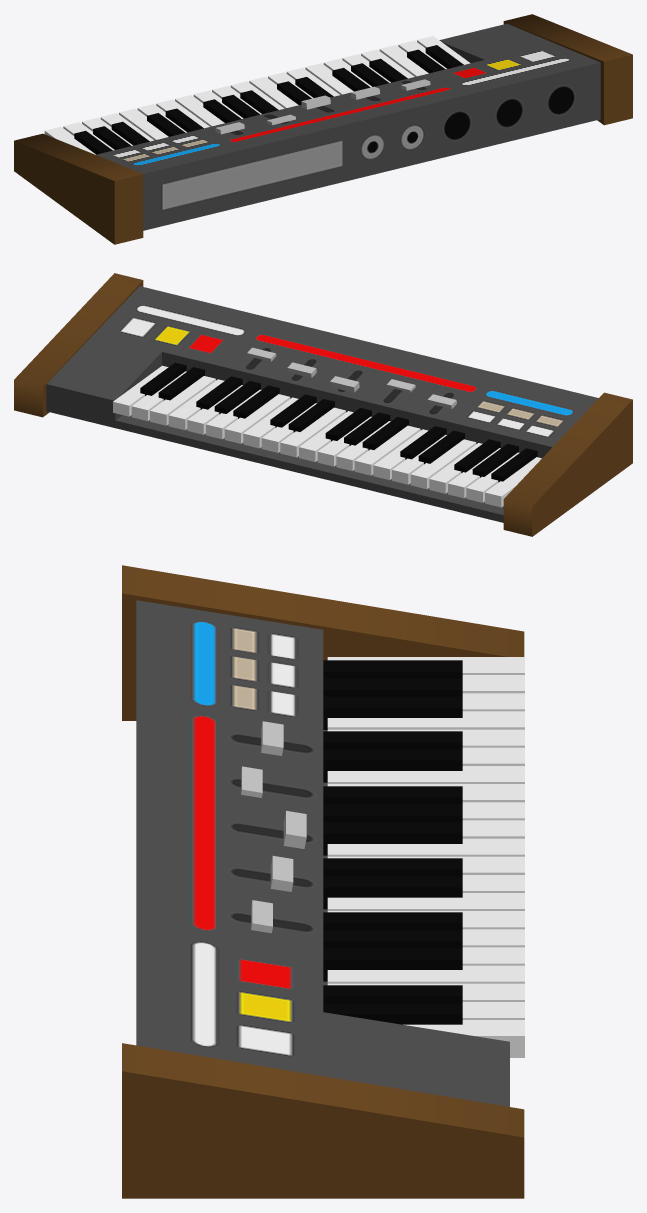
The model's file is juno.fbx.
3 views of the same model, one above another, from view 1: azimuth 30°, elevation 25°; view 2: azimuth 150°, elevation 25°; view 3: azimuth 270°, elevation 25° (orthographic). The views are drawn at different scales.
Parts seen in each view (by area): view 1: juno; view 2: juno; view 3: juno.
Part boxes in pixels (x1,y1,x2,y2): juno: (14, 14, 632, 244); juno: (14, 273, 632, 536); juno: (122, 565, 524, 1198).
Bounding box in the file's own units: 156 × 18.27 × 52.33.
Materials: 1 (1 with a texture image).
